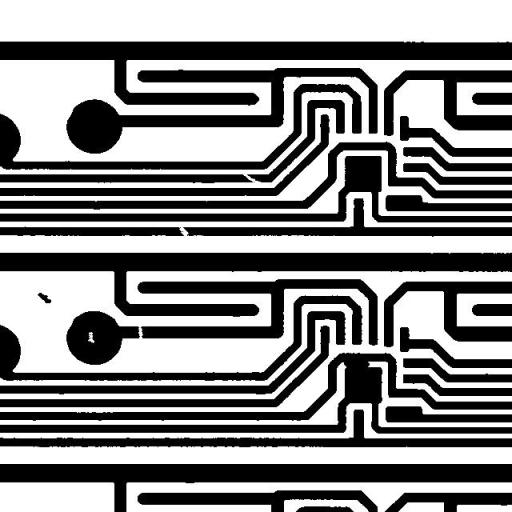copper: (30, 285, 58, 310)
open: (234, 165, 269, 191), (170, 215, 196, 247), (130, 316, 150, 346)
pin-hole: (80, 324, 102, 350)
short: (336, 351, 377, 377)
